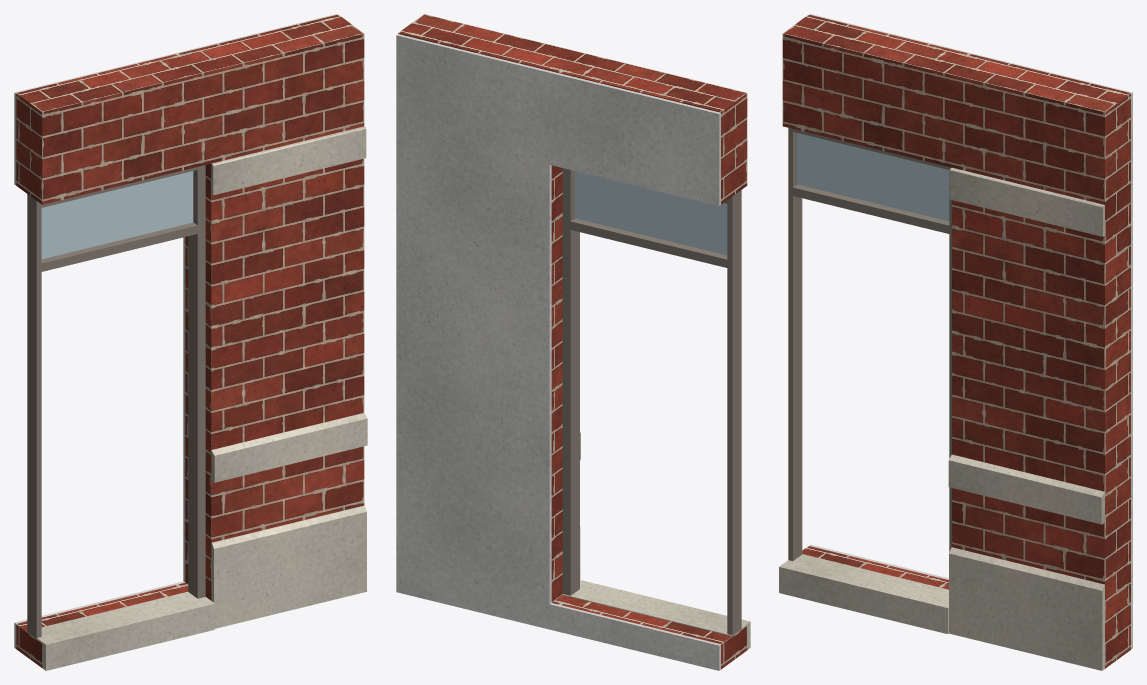
File: w_g_entry_r.glb
The picture shows the model from 3 angles, left to right: view 1: azimuth 30°, elevation 25°; view 2: azimuth 150°, elevation 25°; view 3: azimuth 330°, elevation 25°; orthographic projection.
Parts seen in each view (by area): view 1: w_g_entry_r_brick, w_g_entry_r_precast, w_g_entry_r_alu, w_g_entry_r_glass, w_g_entry_r_plaster; view 2: w_g_entry_r_plaster, w_g_entry_r_brick, w_g_entry_r_alu, w_g_entry_r_glass, w_g_entry_r_precast; view 3: w_g_entry_r_brick, w_g_entry_r_precast, w_g_entry_r_alu, w_g_entry_r_glass, w_g_entry_r_plaster.
Part boxes in pixels (bbox=[...]): w_g_entry_r_brick: bbox=[16, 14, 364, 667]; w_g_entry_r_precast: bbox=[27, 126, 367, 670]; w_g_entry_r_alu: bbox=[27, 165, 205, 638]; w_g_entry_r_glass: bbox=[41, 171, 193, 259]; w_g_entry_r_plaster: bbox=[14, 14, 336, 648]; w_g_entry_r_plaster: bbox=[396, 34, 720, 670]; w_g_entry_r_brick: bbox=[398, 14, 747, 669]; w_g_entry_r_alu: bbox=[562, 168, 741, 635]; w_g_entry_r_glass: bbox=[575, 171, 727, 255]; w_g_entry_r_precast: bbox=[562, 432, 750, 649]; w_g_entry_r_brick: bbox=[782, 14, 1130, 668]; w_g_entry_r_precast: bbox=[779, 167, 1104, 670]; w_g_entry_r_alu: bbox=[788, 128, 951, 560]; w_g_entry_r_glass: bbox=[797, 133, 949, 221]; w_g_entry_r_plaster: bbox=[809, 14, 1132, 649].
Bounding box in the file's own units: 2 × 3.3 × 0.34.
5 materials, 3 textured.
